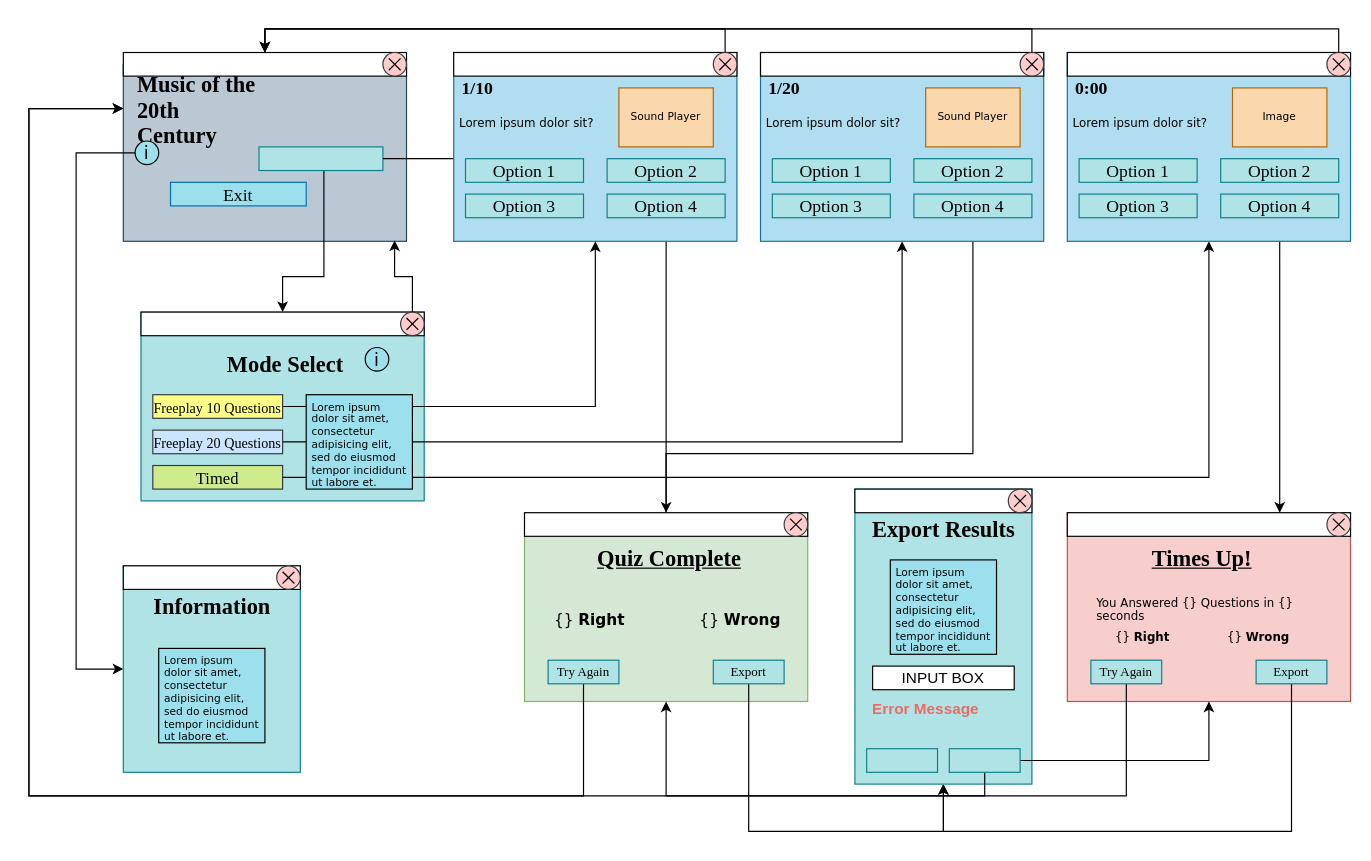
The diagram is 1371 pixels wide and 861 high, and some of its shapes have lost their labels. Each missing label, with the box of its shape:
Cancel: (948, 748, 1020, 772)
Save: (866, 748, 938, 772)
Start: (258, 146, 383, 171)
